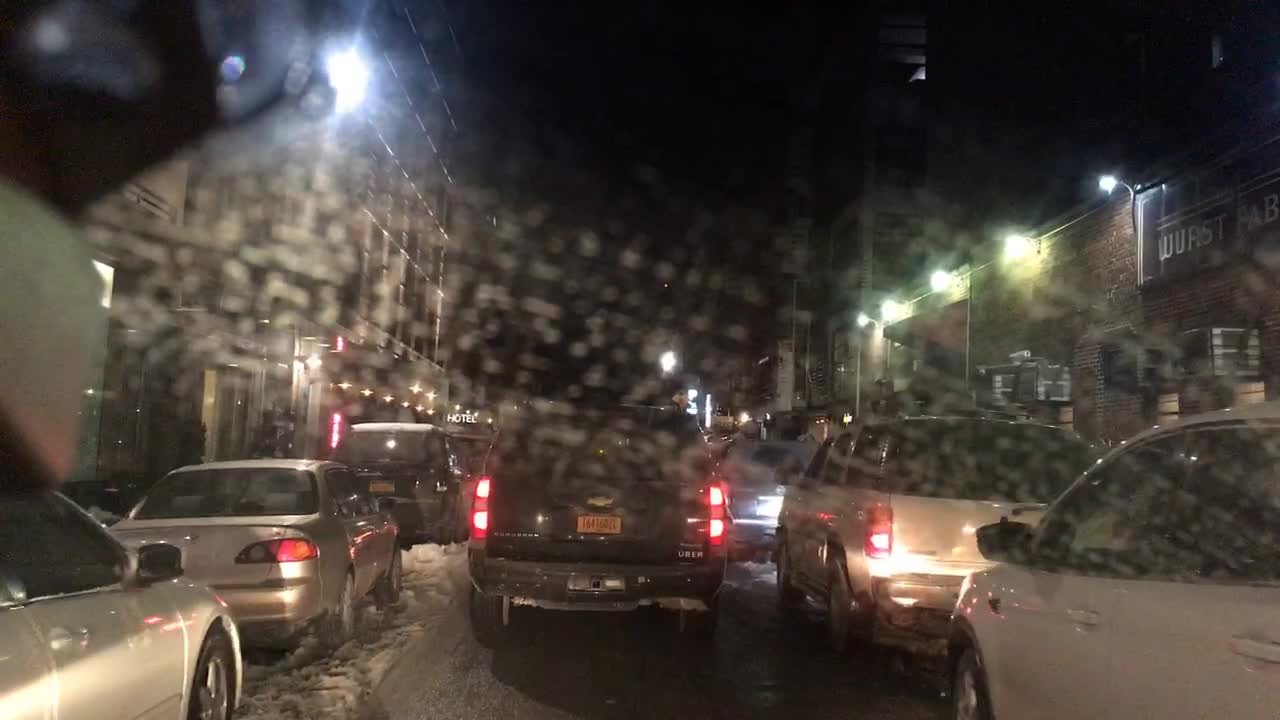car: (943, 398, 1279, 719), (762, 417, 1097, 661), (0, 413, 241, 719), (464, 398, 729, 636), (106, 457, 400, 653), (705, 401, 838, 565), (327, 423, 465, 553), (449, 428, 489, 477)
